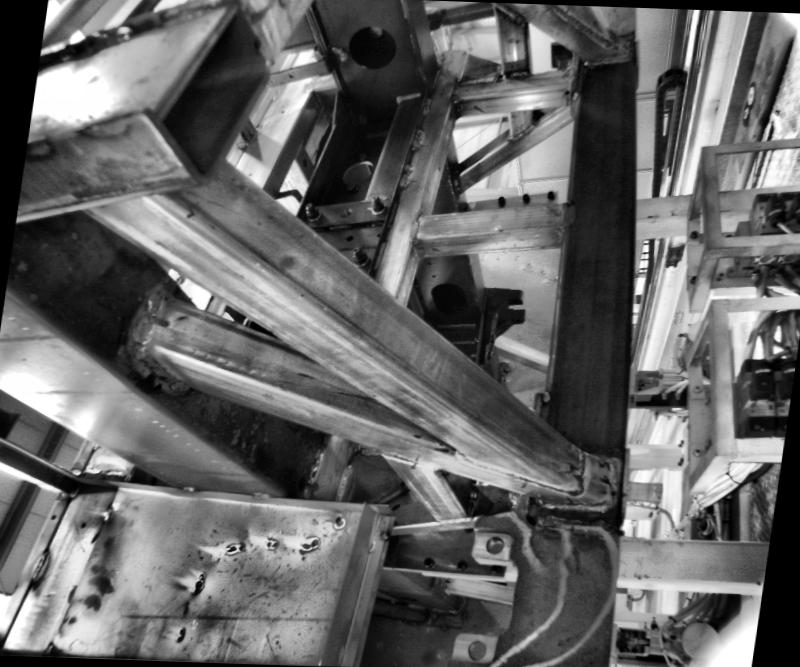bolt: (368, 192, 389, 214), (304, 198, 325, 218), (350, 244, 371, 264)
bracket: (472, 280, 530, 368)
hole: (344, 22, 396, 69), (428, 279, 475, 316), (340, 158, 375, 184), (465, 638, 488, 658), (482, 533, 506, 551), (150, 312, 175, 329), (337, 203, 354, 216), (80, 520, 88, 530), (345, 233, 354, 241), (415, 243, 425, 250), (51, 511, 58, 520), (434, 164, 442, 170)
welding: (140, 291, 174, 356), (536, 498, 628, 516), (612, 461, 628, 512), (31, 548, 50, 583), (580, 447, 593, 496), (562, 202, 578, 228), (178, 484, 201, 498), (401, 162, 416, 183), (412, 213, 422, 241), (414, 128, 427, 147), (250, 492, 276, 501), (104, 508, 114, 519)
